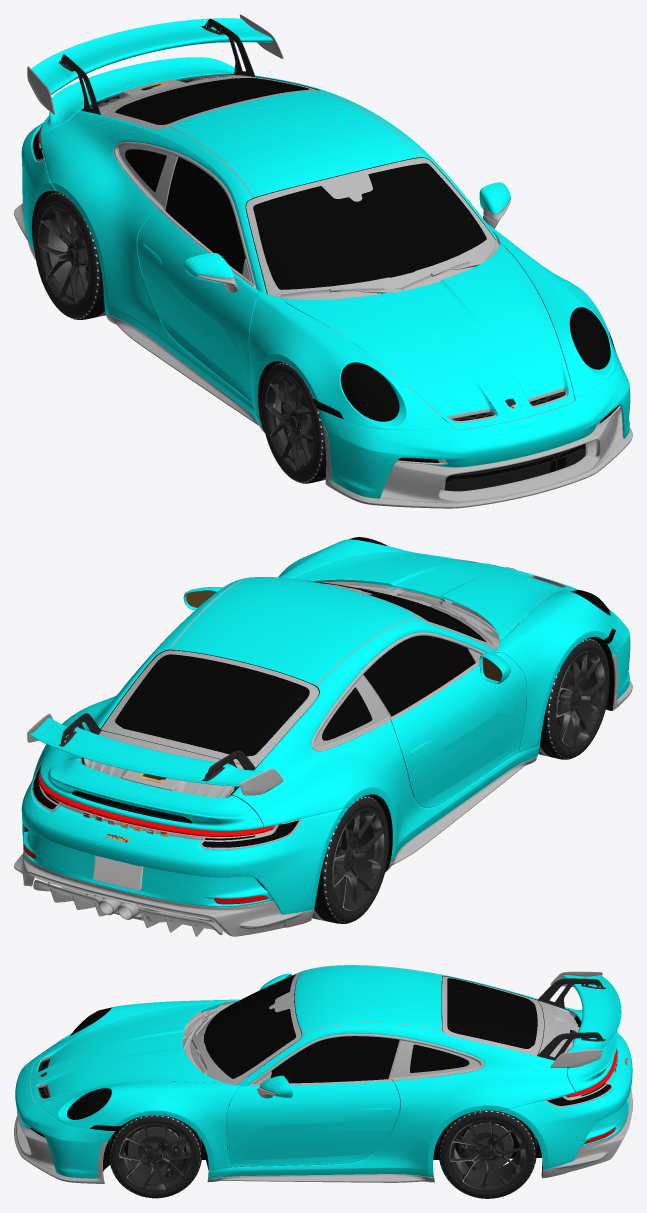
Rendered from car_porsche.obj.
3 views of the same model, one above another, from view 1: azimuth 30°, elevation 25°; view 2: azimuth 150°, elevation 25°; view 3: azimuth 270°, elevation 25° (orthographic). The views are drawn at different scales.
Parts seen in each view (by area): view 1: car_porsche; view 2: car_porsche; view 3: car_porsche.
Part boxes in pixels (left/top/right/bottom): car_porsche: left=14, top=14, right=632, bottom=508; car_porsche: left=14, top=537, right=632, bottom=936; car_porsche: left=14, top=965, right=632, bottom=1198.
Bounding box in the file's own units: 2.03 × 1.29 × 4.57.
1 material, 1 textured.
